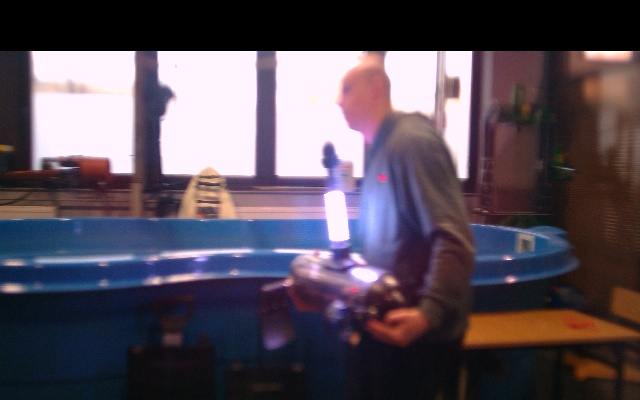white: (323, 190, 351, 244)
